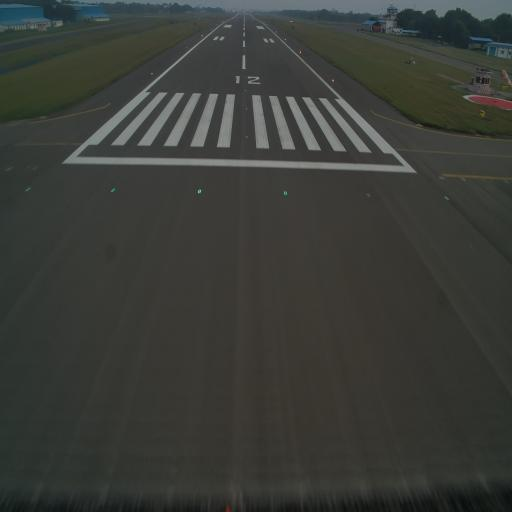off: (366, 185, 372, 200)
on: (108, 181, 118, 196), (443, 189, 452, 204), (23, 181, 32, 195), (194, 183, 202, 198), (282, 186, 290, 201), (244, 134, 249, 141), (244, 106, 248, 113), (331, 77, 335, 84), (150, 70, 153, 77), (244, 89, 248, 93)
